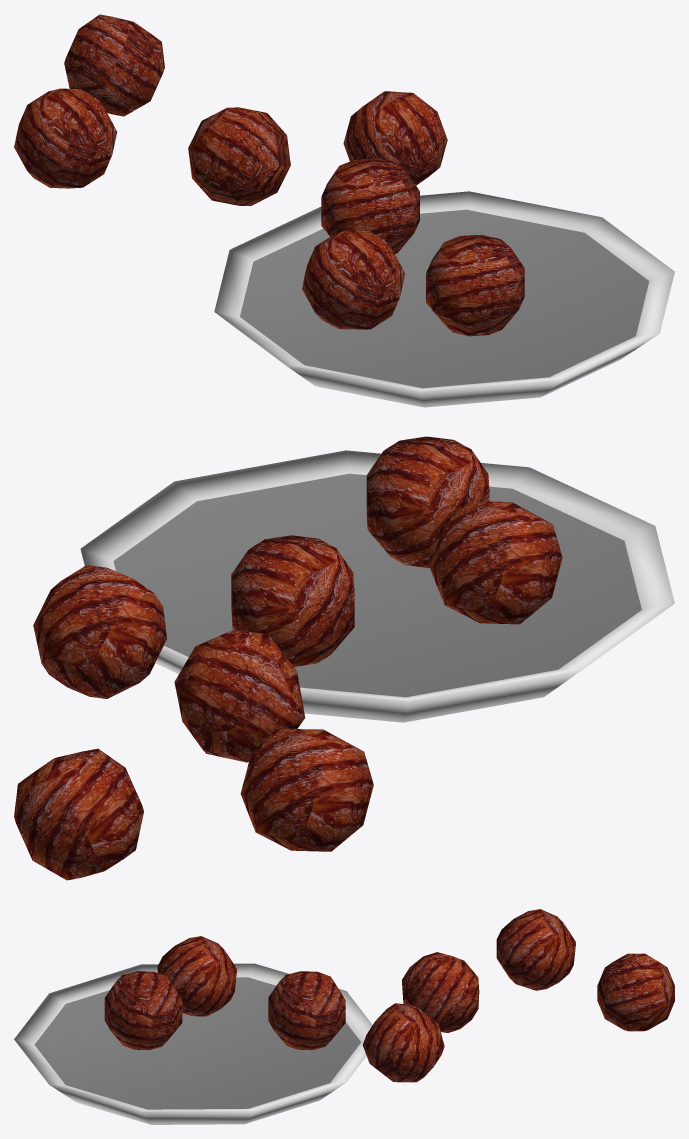
The model's file is spilled meatbll.FBX.
3 renders of one model, top to bottom at view 1: azimuth 30°, elevation 25°; view 2: azimuth 150°, elevation 25°; view 3: azimuth 270°, elevation 25°, orthographic. The views are drawn at different scales.
Visible parts, largest first — view 1: Sphere009, Sphere007, Sphere004, Sphere001, Sphere008, Sphere005, Sphere002, Sphere003; view 2: Sphere009, Sphere003, Sphere008, Sphere001, Sphere005, Sphere002, Sphere004, Sphere007; view 3: Sphere009, Sphere007, Sphere002, Sphere001, Sphere005, Sphere003, Sphere004, Sphere008.
Boxes of the visible parts, bbox=[...] form: Sphere009: bbox=[214, 191, 674, 407]; Sphere007: bbox=[426, 234, 524, 336]; Sphere004: bbox=[188, 107, 290, 205]; Sphere001: bbox=[14, 88, 116, 188]; Sphere008: bbox=[302, 230, 404, 329]; Sphere005: bbox=[64, 14, 164, 116]; Sphere002: bbox=[321, 158, 419, 253]; Sphere003: bbox=[343, 91, 447, 185]; Sphere009: bbox=[80, 450, 674, 722]; Sphere003: bbox=[33, 565, 166, 698]; Sphere008: bbox=[429, 501, 562, 624]; Sphere001: bbox=[240, 729, 373, 851]; Sphere005: bbox=[14, 748, 143, 880]; Sphere002: bbox=[231, 535, 354, 666]; Sphere004: bbox=[174, 629, 305, 762]; Sphere007: bbox=[366, 436, 489, 567]; Sphere009: bbox=[14, 963, 372, 1124]; Sphere007: bbox=[104, 971, 182, 1050]; Sphere002: bbox=[268, 971, 345, 1050]; Sphere001: bbox=[496, 909, 575, 990]; Sphere005: bbox=[597, 953, 674, 1031]; Sphere003: bbox=[362, 1003, 444, 1082]; Sphere004: bbox=[402, 952, 479, 1032]; Sphere008: bbox=[157, 936, 237, 1016].
Size of the model in its own units: 145 by 40.37 by 267.
Materials: 3 (1 with a texture image).
